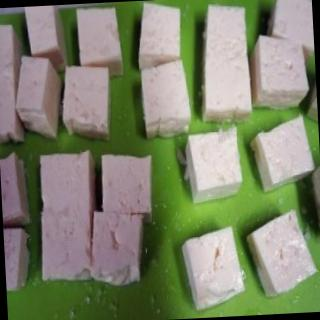Tahu: (1, 6, 123, 145), (40, 151, 161, 287), (139, 4, 191, 140), (257, 1, 315, 110), (247, 211, 317, 298), (204, 5, 255, 120), (182, 227, 245, 312), (251, 117, 315, 194), (188, 128, 243, 205), (1, 153, 31, 293)
